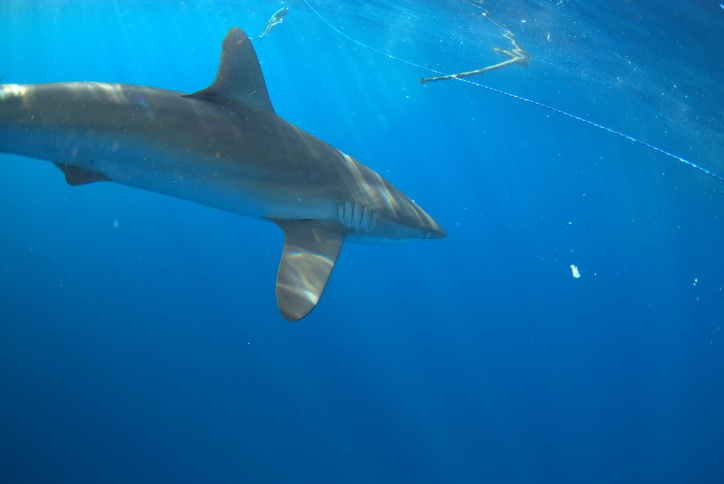Sedoso: (1, 21, 462, 329)
